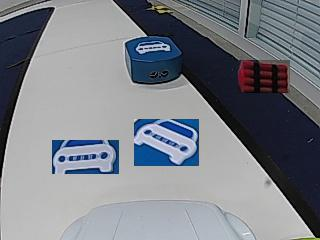safety: (135, 40, 171, 54)
